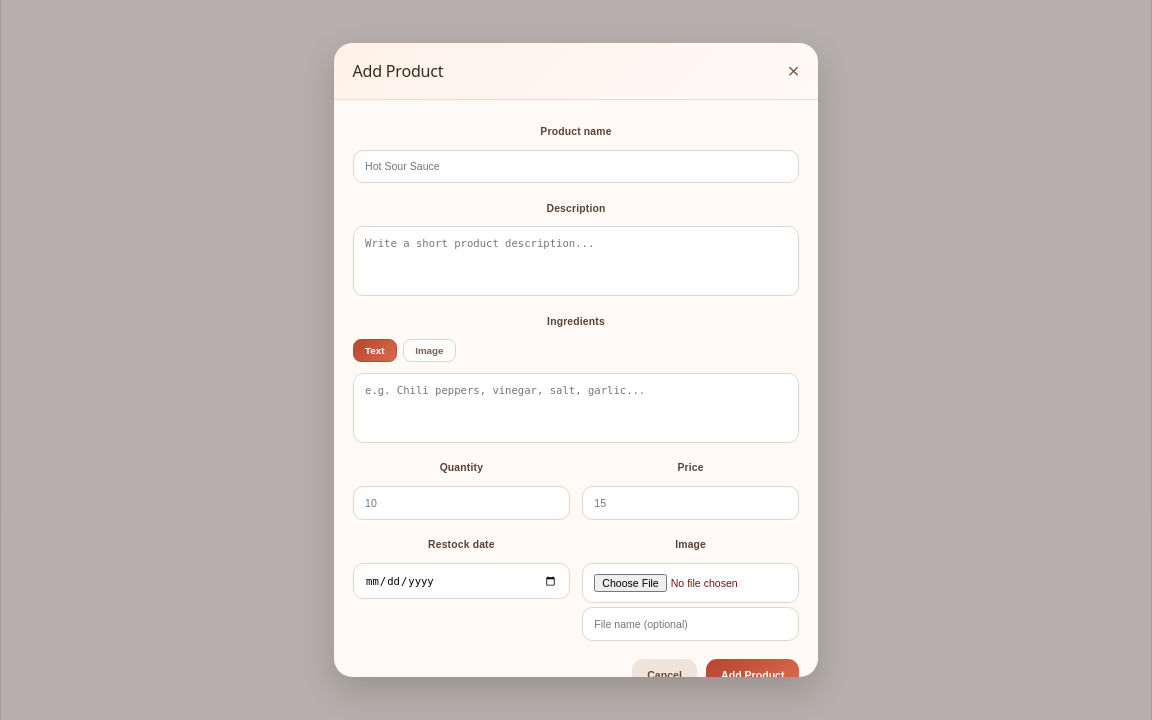
Test: InventoryFormModal › shows validation error when required fields are empty
Click the button "Add Product" at point(753, 675), box [706,659,800,691]
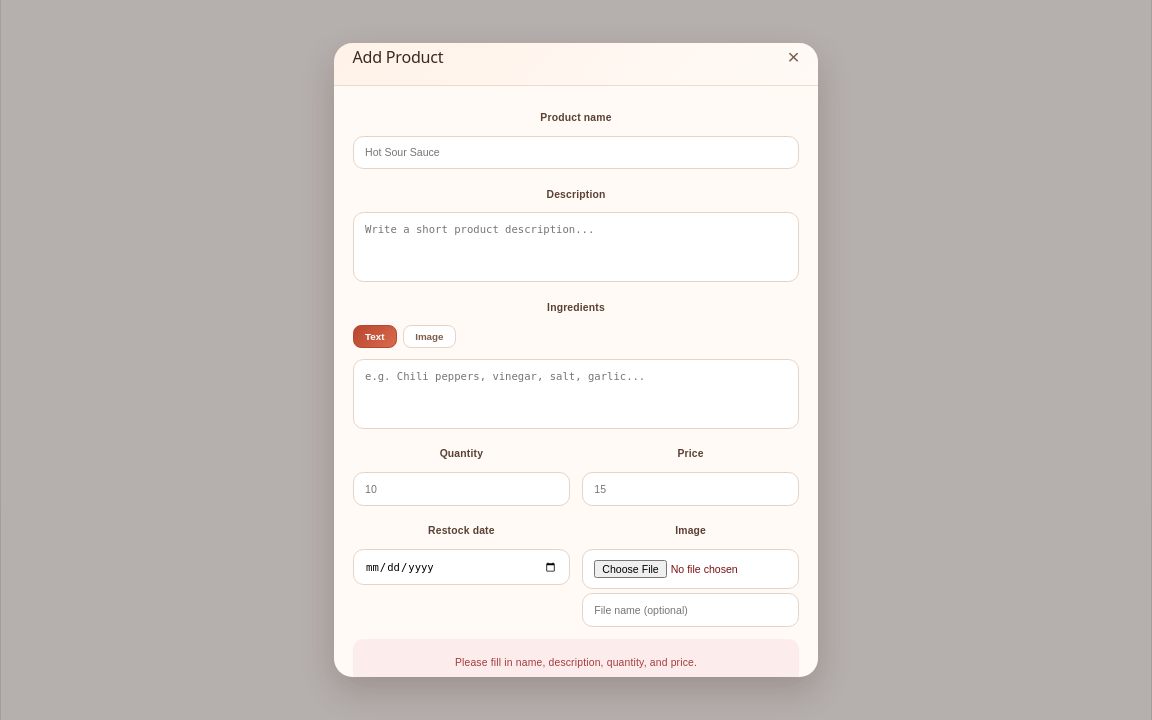
Expected: the text "Please fill in name, description, quantity, and price." is shown, [352,639,800,677]
